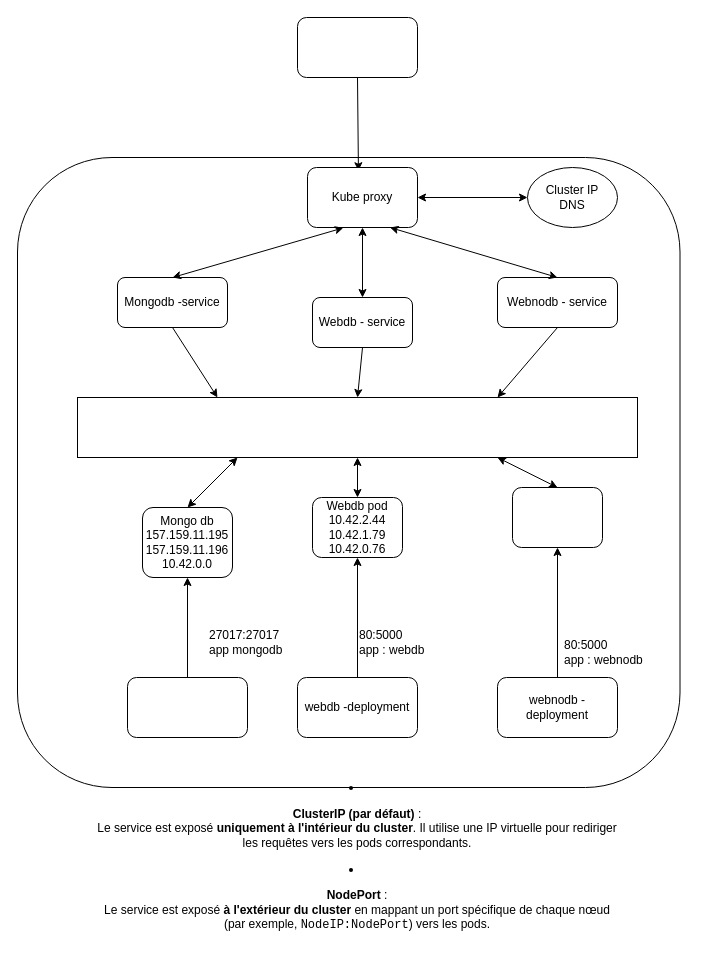
The diagram is 710 pixels wide and 965 high, and some of its shapes have lost their labels. Each missing label, with the centre of its shape:
"mongodb -deployment" goes at [187,707].
"Pc Hôte" goes at [357,47].
"Réseaux de pods" goes at [357,427].
"Webnodb pod 10.42.0.102" goes at [557,517].
